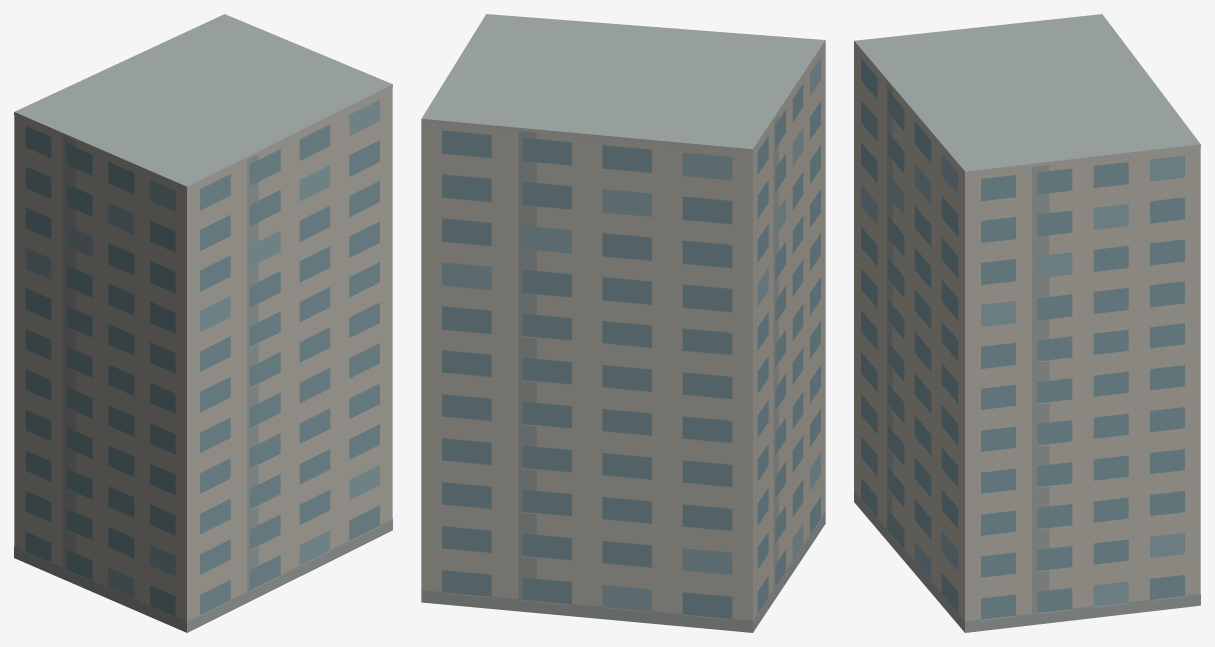
File: residential-ee03c349-693c-41b9-96c0-b5ea05e829e4.glb
3 renders of one model, left to right at view 1: azimuth 30°, elevation 25°; view 2: azimuth 150°, elevation 25°; view 3: azimuth 270°, elevation 25°, orthographic. The views are drawn at different scales.
Parts seen in each view (by area): view 1: residential-ee03c349-693c-41b9-96c0-b5ea05e829e4.tmp; view 2: residential-ee03c349-693c-41b9-96c0-b5ea05e829e4.tmp; view 3: residential-ee03c349-693c-41b9-96c0-b5ea05e829e4.tmp.
Part boxes in pixels (<box>): residential-ee03c349-693c-41b9-96c0-b5ea05e829e4.tmp: <box>14,14,392,632</box>; residential-ee03c349-693c-41b9-96c0-b5ea05e829e4.tmp: <box>421,14,825,632</box>; residential-ee03c349-693c-41b9-96c0-b5ea05e829e4.tmp: <box>854,14,1200,632</box>.
Size of the model in its own units: 24.92 by 34 by 23.17.
